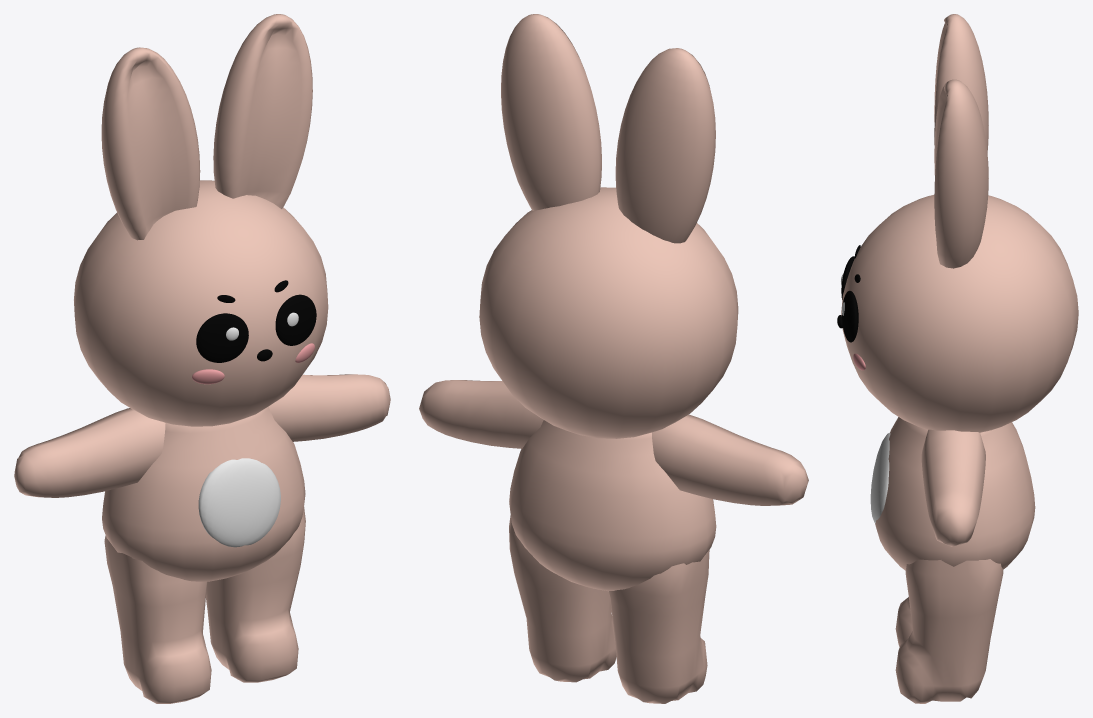
The model's file is _rabbit.fbx.
The picture shows the model from 3 angles, left to right: view 1: azimuth 30°, elevation 25°; view 2: azimuth 150°, elevation 25°; view 3: azimuth 270°, elevation 25°; orthographic projection. The views are drawn at different scales.
Parts seen in each view (by area): view 1: pSphere7, pSphere2, pSphere3, pSphere2.001, pasted__pCube1, pCube1, pasted__pCube2, pCube2, pSphere7.001, pSphere8, pSphere9; view 2: pSphere7, pSphere2, pSphere3, pSphere2.001, pasted__pCube1, pasted__pCube2, pCube1, pCube2; view 3: pSphere7, pSphere2, pCube1, pSphere3, pCube2, pSphere2.001, pSphere7.001, pSphere9, pasted__pCube1.
Boxes of the visible parts, left/top/right/bottom form: pSphere7: left=74, top=180, right=328, bottom=426; pSphere2: left=102, top=407, right=305, bottom=581; pSphere3: left=213, top=14, right=312, bottom=208; pSphere2.001: left=101, top=47, right=200, bottom=240; pasted__pCube1: left=104, top=535, right=211, bottom=703; pCube1: left=206, top=507, right=305, bottom=682; pasted__pCube2: left=14, top=408, right=165, bottom=497; pCube2: left=268, top=374, right=390, bottom=441; pSphere7.001: left=198, top=458, right=280, bottom=547; pSphere8: left=196, top=313, right=248, bottom=362; pSphere9: left=275, top=294, right=316, bottom=345; pSphere7: left=479, top=187, right=738, bottom=438; pSphere2: left=509, top=420, right=716, bottom=591; pSphere3: left=501, top=14, right=601, bottom=210; pSphere2.001: left=615, top=48, right=715, bottom=243; pasted__pCube1: left=609, top=549, right=709, bottom=703; pasted__pCube2: left=652, top=414, right=808, bottom=505; pCube1: left=509, top=515, right=616, bottom=682; pCube2: left=419, top=380, right=543, bottom=448; pSphere7: left=841, top=195, right=1078, bottom=432; pSphere2: left=875, top=417, right=1035, bottom=569; pCube1: left=895, top=559, right=1003, bottom=703; pSphere3: left=934, top=79, right=988, bottom=268; pCube2: left=921, top=429, right=985, bottom=546; pSphere2.001: left=934, top=14, right=988, bottom=152; pSphere7.001: left=870, top=432, right=890, bottom=523; pSphere9: left=842, top=290, right=858, bottom=342; pasted__pCube1: left=895, top=597, right=912, bottom=646.
Bounding box in the file's own units: 166 × 272 × 94.9.
